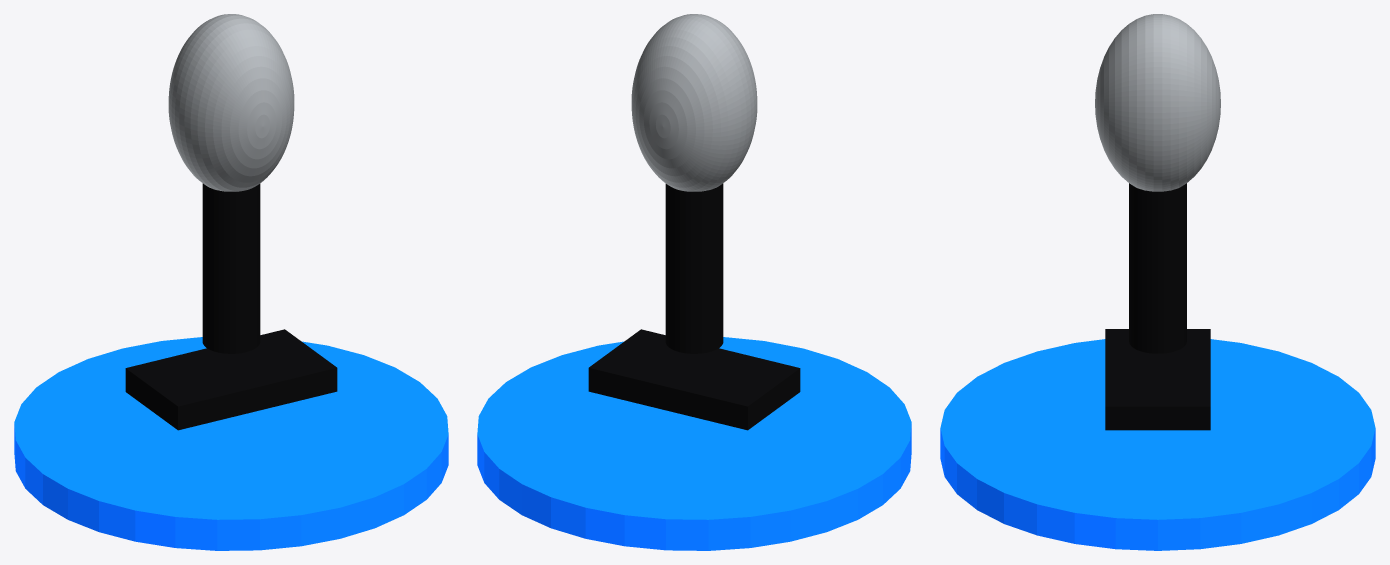
The model's file is news_reporter_microphone.dae.
3 renders of one model, left to right at view 1: azimuth 30°, elevation 25°; view 2: azimuth 150°, elevation 25°; view 3: azimuth 270°, elevation 25°, orthographic.
Parts seen in each view (by area): view 1: 09_18_Popular_News_Reporter_Microphone_ROOT_base, 09_18_Popular_News_Reporter_Microphone_part_01, 09_18_Popular_News_Reporter_Microphone_part_03, 09_18_Popular_News_Reporter_Microphone_part_02; view 2: 09_18_Popular_News_Reporter_Microphone_ROOT_base, 09_18_Popular_News_Reporter_Microphone_part_01, 09_18_Popular_News_Reporter_Microphone_part_03, 09_18_Popular_News_Reporter_Microphone_part_02; view 3: 09_18_Popular_News_Reporter_Microphone_ROOT_base, 09_18_Popular_News_Reporter_Microphone_part_01, 09_18_Popular_News_Reporter_Microphone_part_03, 09_18_Popular_News_Reporter_Microphone_part_02.
Boxes of the visible parts, x1,y1,x2,y2 form: 09_18_Popular_News_Reporter_Microphone_ROOT_base: [14, 337, 448, 550]; 09_18_Popular_News_Reporter_Microphone_part_01: [168, 14, 294, 191]; 09_18_Popular_News_Reporter_Microphone_part_03: [125, 329, 337, 430]; 09_18_Popular_News_Reporter_Microphone_part_02: [202, 183, 260, 353]; 09_18_Popular_News_Reporter_Microphone_ROOT_base: [477, 337, 911, 550]; 09_18_Popular_News_Reporter_Microphone_part_01: [631, 14, 757, 191]; 09_18_Popular_News_Reporter_Microphone_part_03: [588, 329, 800, 430]; 09_18_Popular_News_Reporter_Microphone_part_02: [665, 183, 723, 353]; 09_18_Popular_News_Reporter_Microphone_ROOT_base: [940, 339, 1375, 550]; 09_18_Popular_News_Reporter_Microphone_part_01: [1095, 14, 1220, 191]; 09_18_Popular_News_Reporter_Microphone_part_03: [1105, 329, 1210, 430]; 09_18_Popular_News_Reporter_Microphone_part_02: [1129, 183, 1186, 353].
Bounding box in the file's own units: 0.76 × 0.85 × 0.76.
